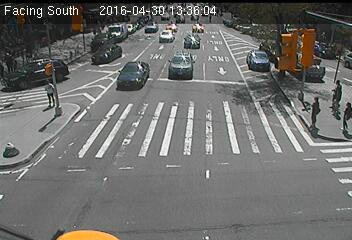neg: (250, 43, 282, 85), (271, 168, 296, 201), (102, 38, 127, 71), (161, 98, 185, 129), (47, 167, 71, 198), (55, 39, 75, 66), (198, 47, 218, 73), (113, 138, 133, 164), (154, 183, 173, 208), (203, 166, 222, 191), (223, 118, 241, 142), (151, 52, 166, 73)
pos: (319, 71, 347, 109), (302, 92, 328, 127), (324, 97, 349, 131), (37, 78, 62, 111)
